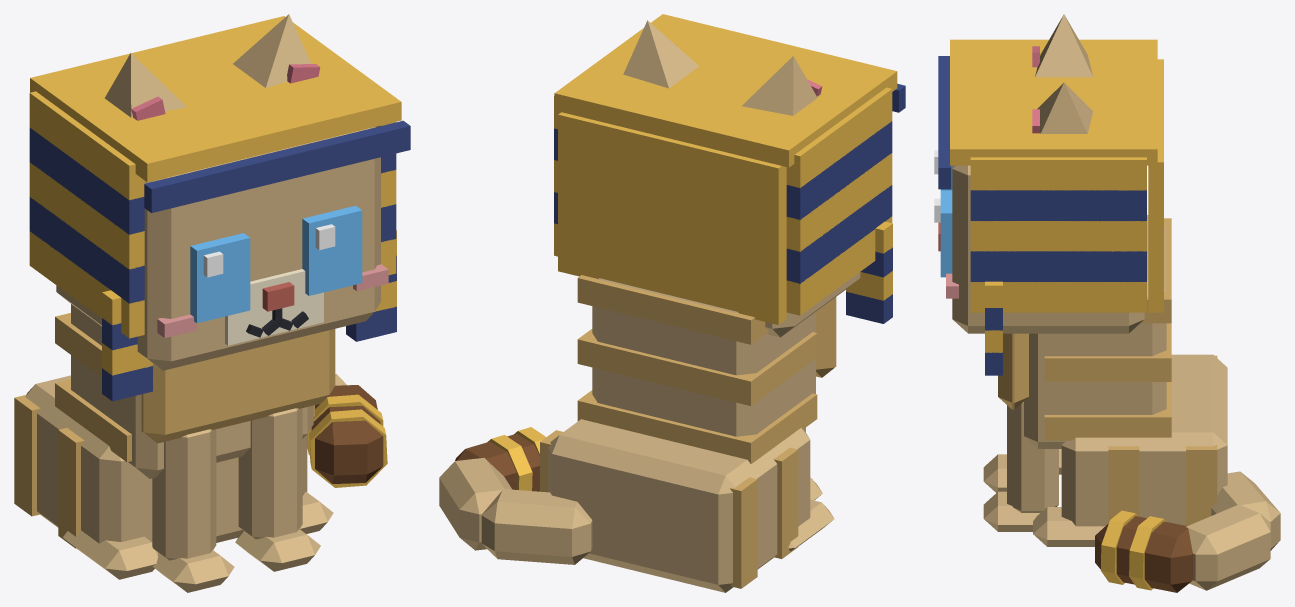
Rendered from CatCafe_Cat_Sphinx_Sit.glb.
3 renders of one model, left to right at view 1: azimuth 30°, elevation 25°; view 2: azimuth 150°, elevation 25°; view 3: azimuth 270°, elevation 25°, orthographic. The views are drawn at different scales.
Parts seen in each view (by area): view 1: CatCafe_Cat_Sphinx_Sit_Prop, CatCafe_Cat_Sphinx_Sit_Body, CatCafe_Cat_Sphinx_Sit_Head, CatCafe_Cat_Sphinx_Sit_LegF1, CatCafe_Cat_Sphinx_Sit_LegF2, CatCafe_Cat_Sphinx_Sit_Eye2, CatCafe_Cat_Sphinx_Sit_Eye1, CatCafe_Cat_Sphinx_Sit_Tail, CatCafe_Cat_Sphinx_Sit_EarL, CatCafe_Cat_Sphinx_Sit_EarR, CatCafe_Cat_Sphinx_Sit_Tail_Cuffs; view 2: CatCafe_Cat_Sphinx_Sit_Prop, CatCafe_Cat_Sphinx_Sit_Body, CatCafe_Cat_Sphinx_Sit_Tail, CatCafe_Cat_Sphinx_Sit_EarL, CatCafe_Cat_Sphinx_Sit_EarR, CatCafe_Cat_Sphinx_Sit_Tail_Cuffs, CatCafe_Cat_Sphinx_Sit_Head; view 3: CatCafe_Cat_Sphinx_Sit_Prop, CatCafe_Cat_Sphinx_Sit_Body, CatCafe_Cat_Sphinx_Sit_Tail, CatCafe_Cat_Sphinx_Sit_Head, CatCafe_Cat_Sphinx_Sit_LegF1, CatCafe_Cat_Sphinx_Sit_Tail_Cuffs, CatCafe_Cat_Sphinx_Sit_EarR, CatCafe_Cat_Sphinx_Sit_EarL, CatCafe_Cat_Sphinx_Sit_Eye1, CatCafe_Cat_Sphinx_Sit_LegF2.
Part boxes in pixels (<box>): CatCafe_Cat_Sphinx_Sit_Prop: <box>29,16,410,401</box>; CatCafe_Cat_Sphinx_Sit_Body: <box>14,304,335,579</box>; CatCafe_Cat_Sphinx_Sit_Head: <box>56,127,388,370</box>; CatCafe_Cat_Sphinx_Sit_LegF1: <box>235,408,320,571</box>; CatCafe_Cat_Sphinx_Sit_LegF2: <box>152,429,234,592</box>; CatCafe_Cat_Sphinx_Sit_Eye2: <box>190,233,250,323</box>; CatCafe_Cat_Sphinx_Sit_Eye1: <box>302,205,362,295</box>; CatCafe_Cat_Sphinx_Sit_Tail: <box>311,374,383,483</box>; CatCafe_Cat_Sphinx_Sit_EarL: <box>233,14,320,87</box>; CatCafe_Cat_Sphinx_Sit_EarR: <box>104,53,186,120</box>; CatCafe_Cat_Sphinx_Sit_Tail_Cuffs: <box>307,394,387,487</box>; CatCafe_Cat_Sphinx_Sit_Prop: <box>554,14,905,324</box>; CatCafe_Cat_Sphinx_Sit_Body: <box>540,275,836,592</box>; CatCafe_Cat_Sphinx_Sit_Tail: <box>439,433,592,564</box>; CatCafe_Cat_Sphinx_Sit_EarL: <box>623,20,698,88</box>; CatCafe_Cat_Sphinx_Sit_EarR: <box>741,56,822,115</box>; CatCafe_Cat_Sphinx_Sit_Tail_Cuffs: <box>487,427,545,490</box>; CatCafe_Cat_Sphinx_Sit_Head: <box>765,272,860,337</box>; CatCafe_Cat_Sphinx_Sit_Prop: <box>938,39,1163,375</box>; CatCafe_Cat_Sphinx_Sit_Body: <box>998,215,1227,546</box>; CatCafe_Cat_Sphinx_Sit_Tail: <box>1095,471,1280,592</box>; CatCafe_Cat_Sphinx_Sit_Head: <box>938,165,1144,333</box>; CatCafe_Cat_Sphinx_Sit_LegF1: <box>983,402,1058,531</box>; CatCafe_Cat_Sphinx_Sit_Tail_Cuffs: <box>1100,510,1165,590</box>; CatCafe_Cat_Sphinx_Sit_EarR: <box>1032,14,1092,77</box>; CatCafe_Cat_Sphinx_Sit_EarL: <box>1032,82,1093,133</box>; CatCafe_Cat_Sphinx_Sit_Eye1: <box>934,190,952,277</box>; CatCafe_Cat_Sphinx_Sit_LegF2: <box>983,454,1006,492</box>.
Size of the model in its own units: 1.79 by 2.4 by 1.65.
Materials: 1 (1 with a texture image).
